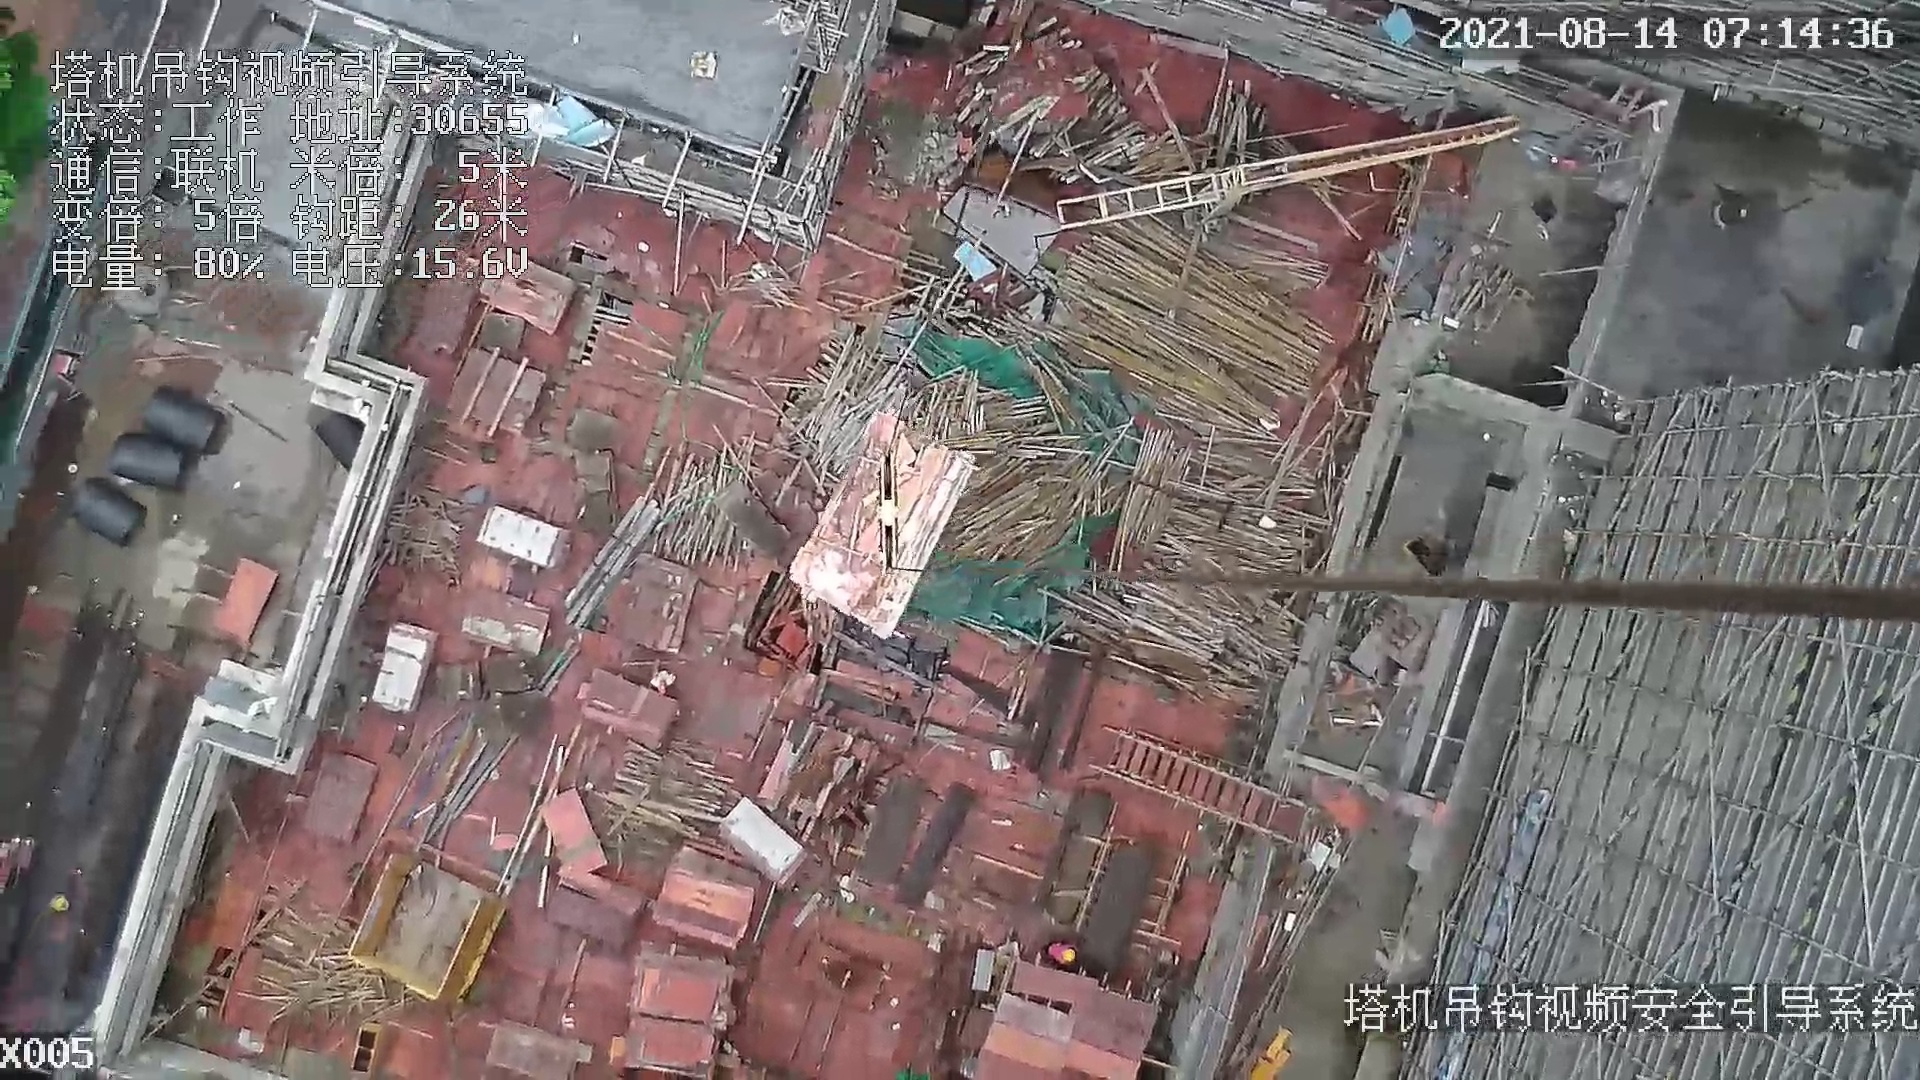hook: (865, 444, 910, 578)
